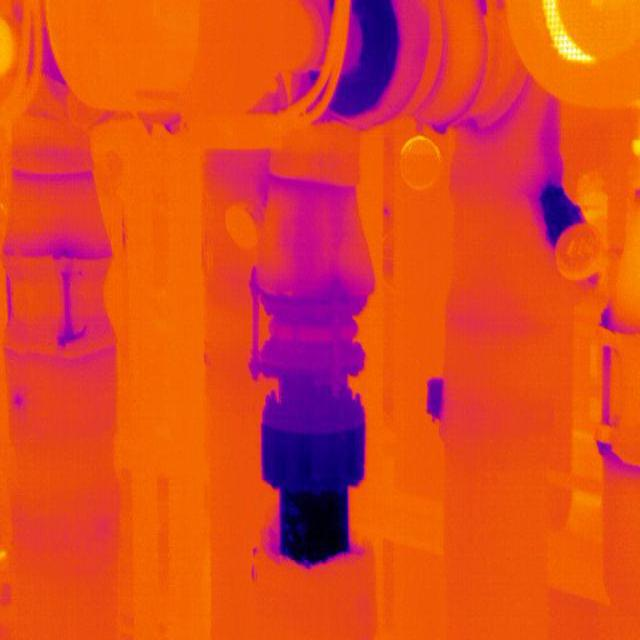leakage: (537, 146, 582, 238)
